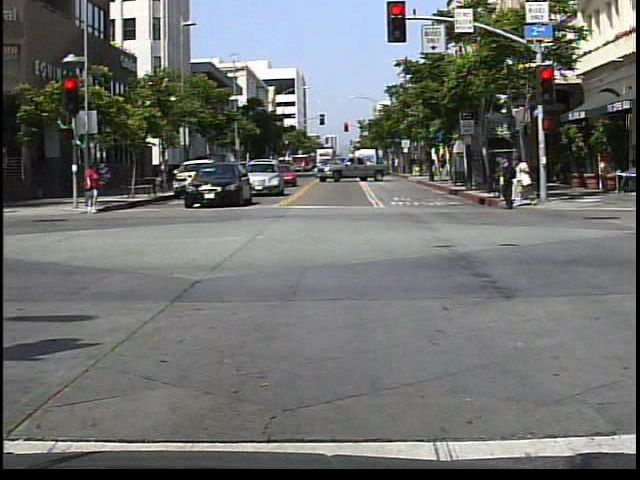person: (497, 156, 523, 215), (517, 151, 539, 212), (81, 160, 101, 219), (612, 150, 638, 194)
